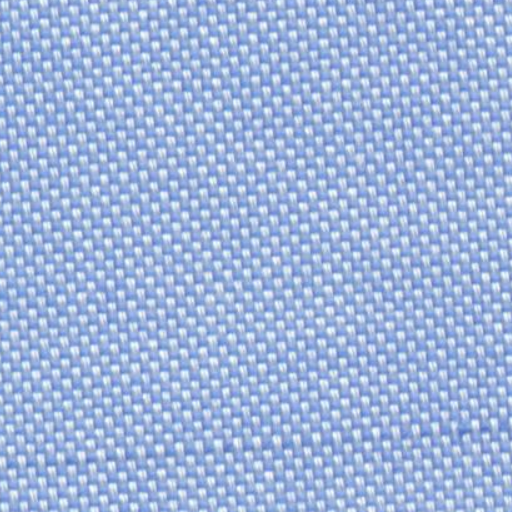TuoSha: (16, 406, 500, 486)
